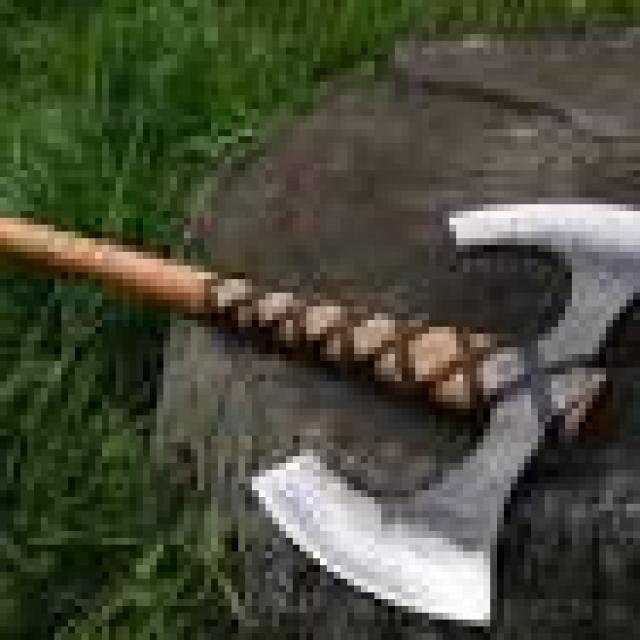Gun: (0, 170, 640, 620)
